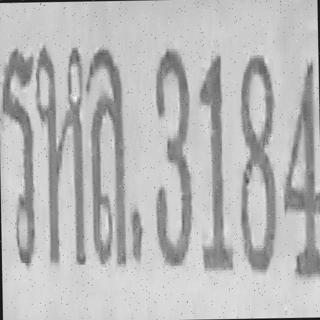A35: (0, 45, 38, 268)
A41: (35, 44, 87, 266)
N01: (198, 49, 232, 272)
N03: (152, 44, 193, 267)
N04: (280, 56, 320, 277)
N08: (237, 50, 277, 272)
